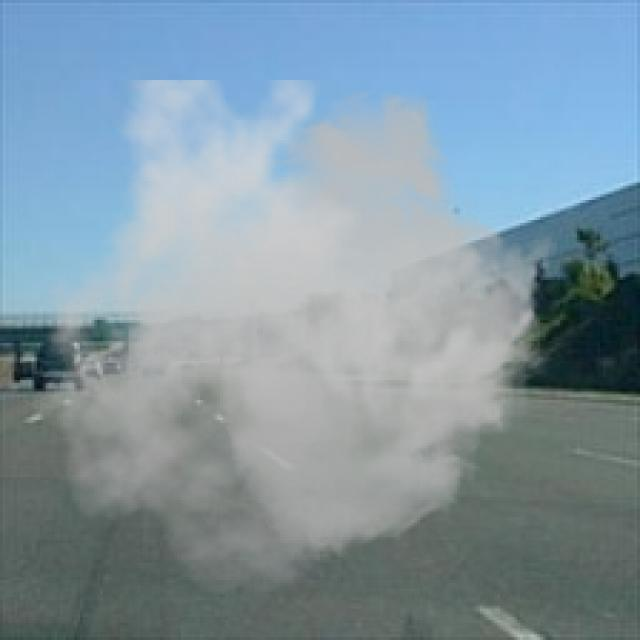smoke: (29, 80, 560, 597)
